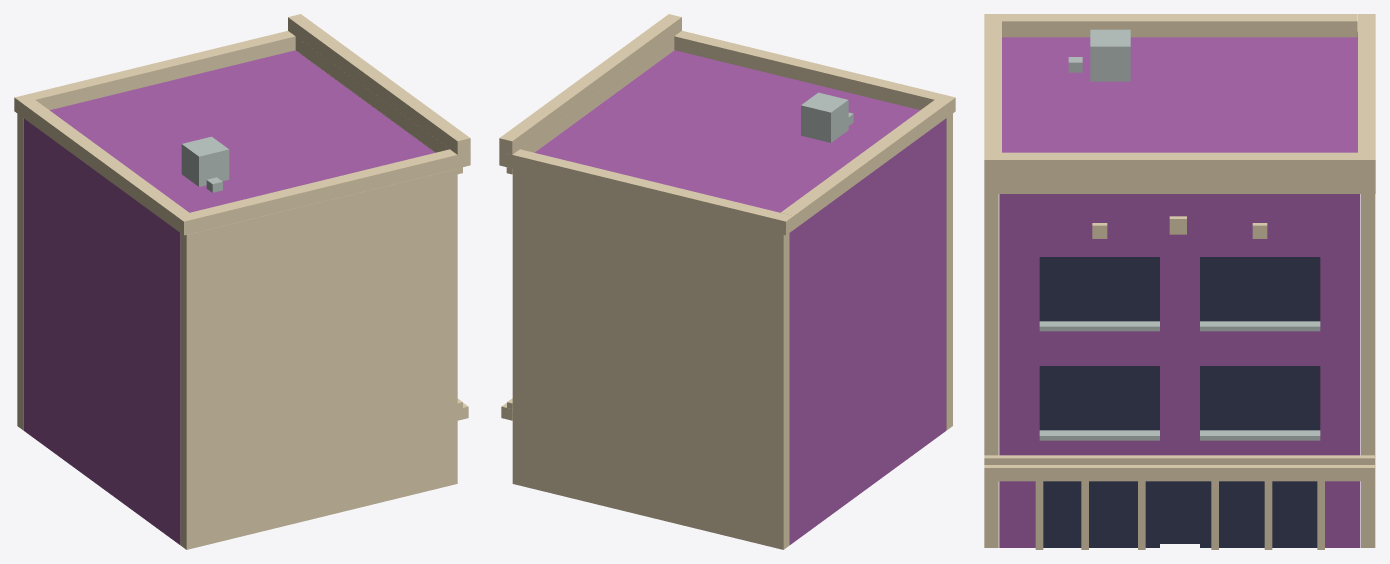
File: building1_final.fbx
3 renders of one model, left to right at view 1: azimuth 30°, elevation 25°; view 2: azimuth 150°, elevation 25°; view 3: azimuth 270°, elevation 25°, orthographic. The views are drawn at different scales.
Visible parts, largest first — view 1: pCube909, pCube705, pCube1015, pCube741, pCube772, pCube359, pCube196, pCube439, pCube1016, pCube234, pCube409, pCube624 (+50 smaller); view 2: pCube911, pCube821, pCube732, pCube851, pCube909, pCube882, pCube1015, pCube235, pCube425, pCube659, pCube1050, pCube555 (+50 smaller); view 3: pCube909, pCube910, pCube725, pCube726, pCube234, pCube4867, pCube391, pCube226, pCube225, pCube232, pCube911, pCube623 (+34 smaller).
Boxes of the visible parts, left/top/right/bottom form: pCube909: left=356, top=108, right=470, bottom=246; pCube705: left=296, top=153, right=397, bottom=261; pCube1015: left=142, top=188, right=217, bottom=297; pCube741: left=236, top=168, right=337, bottom=275; pCube772: left=176, top=183, right=276, bottom=290; pCube359: left=145, top=394, right=216, bottom=486; pCube196: left=145, top=457, right=216, bottom=549; pCube439: left=145, top=331, right=216, bottom=423; pCube1016: left=145, top=268, right=216, bottom=360; pCube234: left=397, top=358, right=468, bottom=435; pCube409: left=337, top=309, right=397, bottom=387; pCube624: left=337, top=246, right=397, bottom=324; pCube911: left=499, top=120, right=595, bottom=246; pCube821: left=632, top=178, right=716, bottom=275; pCube732: left=572, top=164, right=656, bottom=260; pCube851: left=693, top=193, right=776, bottom=290; pCube909: left=628, top=14, right=741, bottom=89; pCube882: left=751, top=207, right=807, bottom=297; pCube1015: left=882, top=89, right=955, bottom=203; pCube235: left=501, top=358, right=572, bottom=435; pCube425: left=633, top=324, right=693, bottom=401; pCube659: left=633, top=261, right=693, bottom=338; pCube1050: left=693, top=465, right=753, bottom=542; pCube555: left=512, top=232, right=572, bottom=309; pCube909: left=984, top=134, right=1079, bottom=256; pCube910: left=1079, top=150, right=1159, bottom=256; pCube725: left=1240, top=150, right=1320, bottom=256; pCube726: left=1160, top=150, right=1239, bottom=256; pCube234: left=984, top=399, right=1079, bottom=481; pCube4867: left=984, top=257, right=1079, bottom=331; pCube391: left=984, top=329, right=1079, bottom=402; pCube226: left=1079, top=399, right=1159, bottom=481; pCube225: left=1240, top=399, right=1320, bottom=481; pCube232: left=1160, top=399, right=1239, bottom=481; pCube911: left=1320, top=134, right=1375, bottom=256; pCube623: left=1079, top=257, right=1159, bottom=331.
Bounding box in the file's own units: 18.76 × 21.59 × 19.22.
